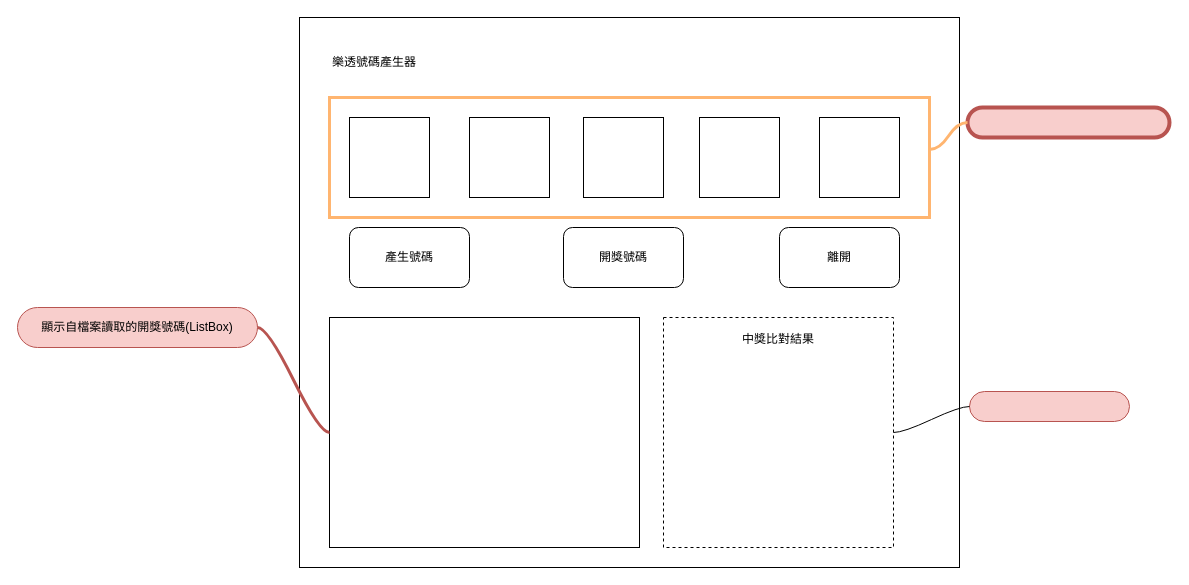
The diagram is 1189 pixels wide and 585 high, and some of its shapes have lost their labels. The shapes that lost their labels are listed below. From the top down, each one's centre as x and y in pixels, then its label:
point 1068,122: 顯示變數產生的號碼(label)
point 1049,406: 中獎對比結果(labels)
